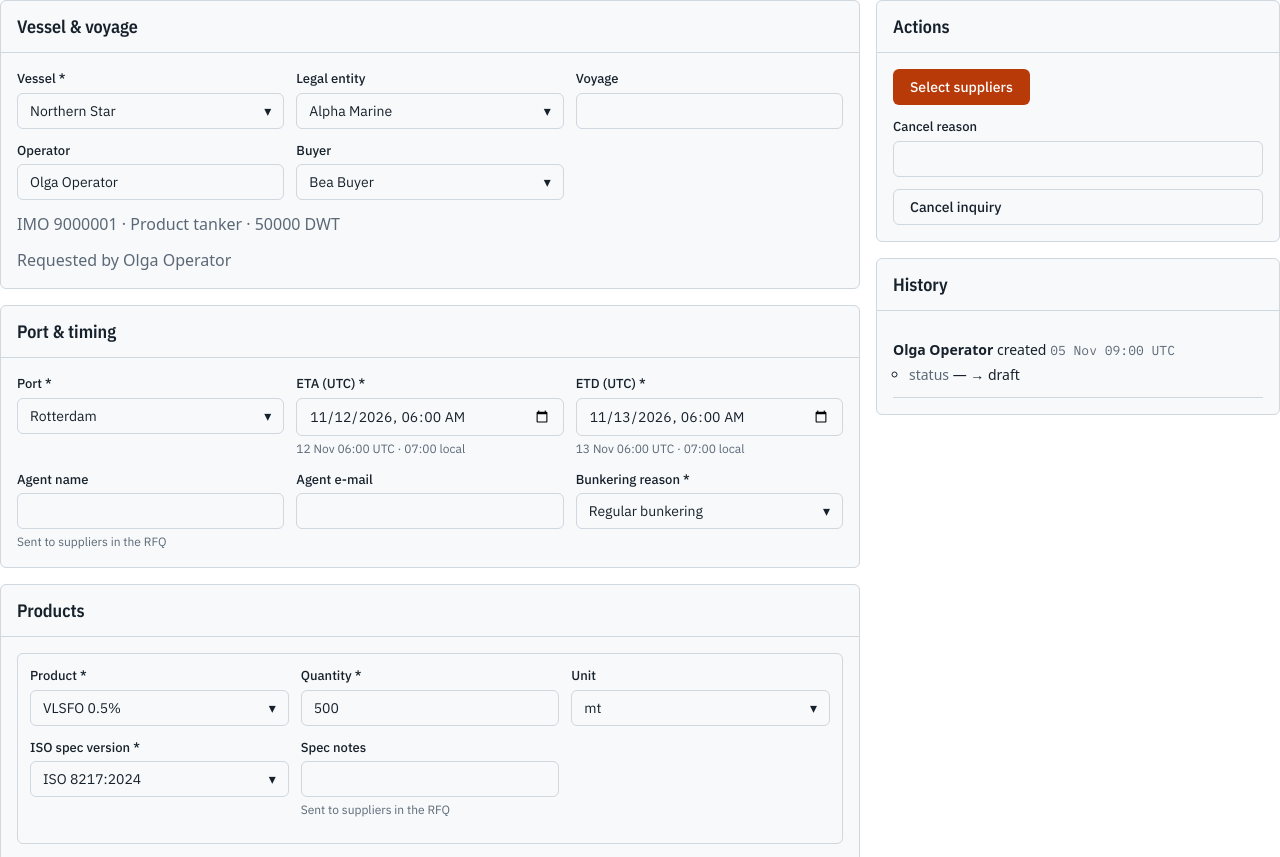
Test: InquiryPage errors › [B2-R13] a 409 shows a toast and reloads the latest version
Type "Ahoy Agency" into the field labelled "Agent name".
click(151, 511); type("Ahoy Agency")  # box [17,493,284,529]
(page scrolled)
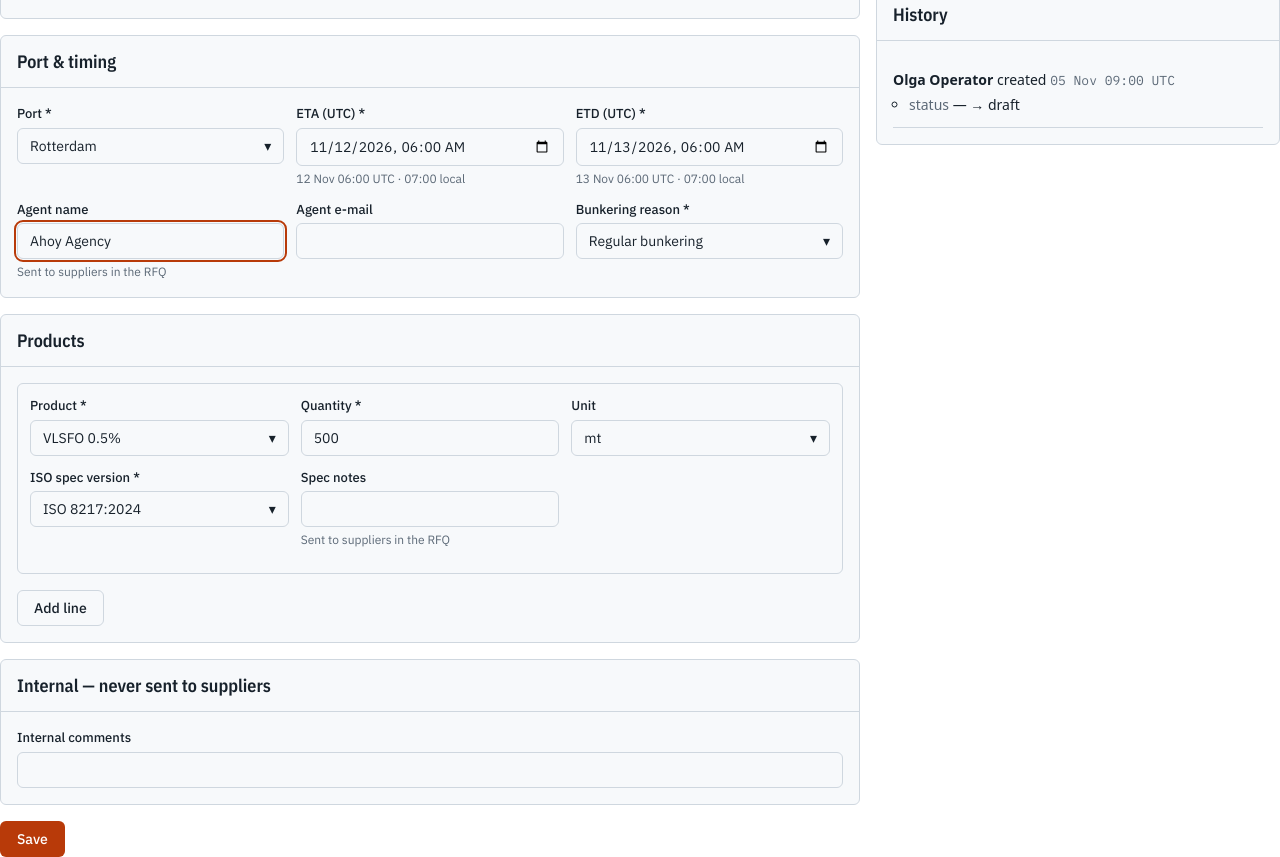
Click the button "Save".
click(32, 838)  # box [0,820,65,856]
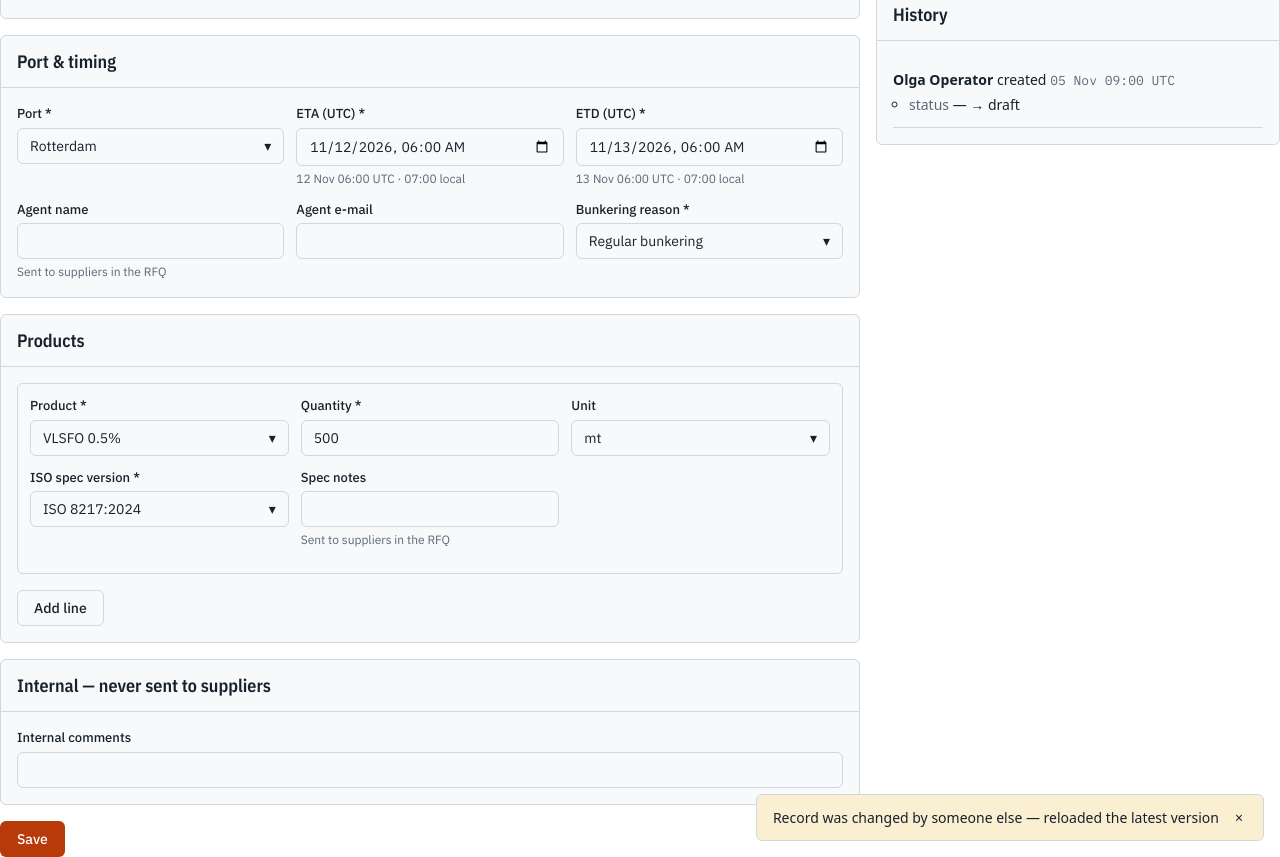
Expected: the text "changed by someone else" is shown, [773,808,1219,827]
Expected: the field labelled "Agent name" is empty, [17,223,284,259]
